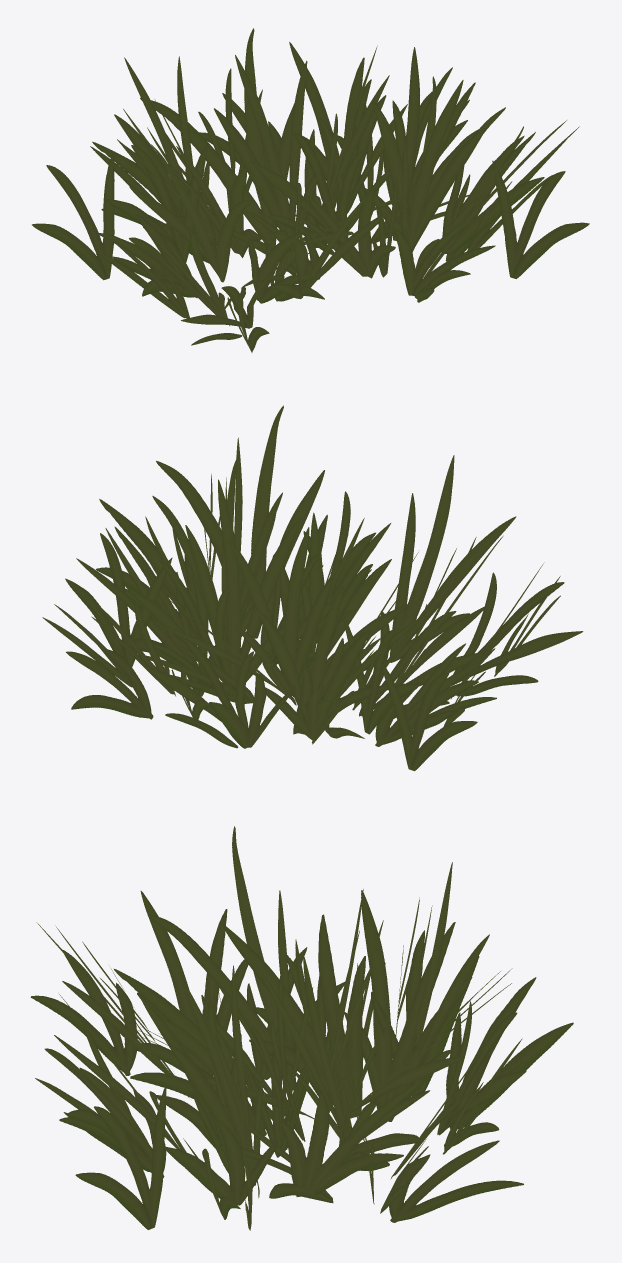
Rendered from MSH_fwOF_Grass_S_01.fbx.
The picture shows the model from 3 angles, top to bottom: view 1: azimuth 30°, elevation 25°; view 2: azimuth 150°, elevation 25°; view 3: azimuth 270°, elevation 25°; orthographic projection. The views are drawn at different scales.
Parts seen in each view (by area): view 1: MSH_fwOF_Grass_S_01; view 2: MSH_fwOF_Grass_S_01; view 3: MSH_fwOF_Grass_S_01.
Part boxes in pixels (x1,y1,x2,y2): MSH_fwOF_Grass_S_01: (32, 28, 589, 352); MSH_fwOF_Grass_S_01: (42, 405, 583, 771); MSH_fwOF_Grass_S_01: (30, 826, 573, 1230).
Size of the model in its own units: 0.405 by 0.1998 by 0.3629.
